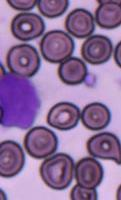M: (0, 72, 42, 127)
